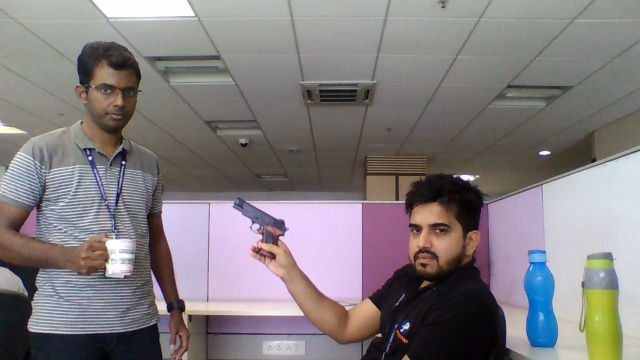gun: (232, 195, 289, 241)
